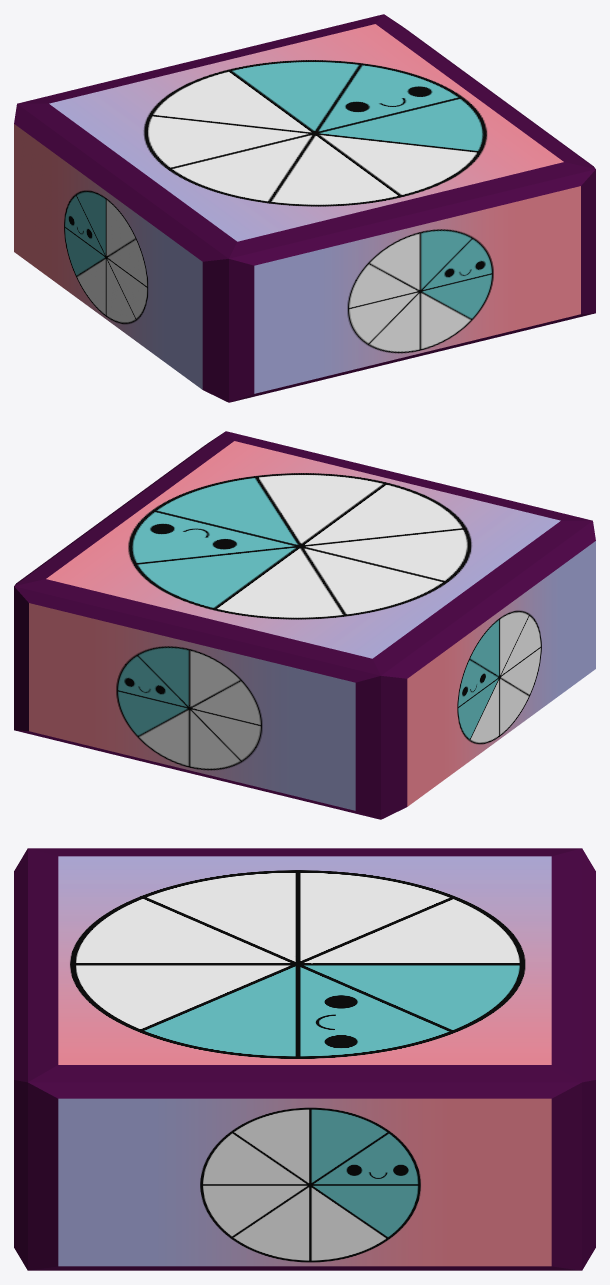
The model's file is Fracciones tres octavos.fbx.
3 views of the same model, one above another, from view 1: azimuth 30°, elevation 25°; view 2: azimuth 150°, elevation 25°; view 3: azimuth 270°, elevation 25° (orthographic). The views are drawn at different scales.
Parts seen in each view (by area): view 1: 3/8; view 2: 3/8; view 3: 3/8.
Part boxes in pixels (left/top/right/bottom): 3/8: left=14, top=14, right=595, bottom=402; 3/8: left=14, top=431, right=595, bottom=819; 3/8: left=14, top=848, right=595, bottom=1270.
Bounding box in the file's own units: 213 × 78.75 × 210.
2 materials, 1 textured.
